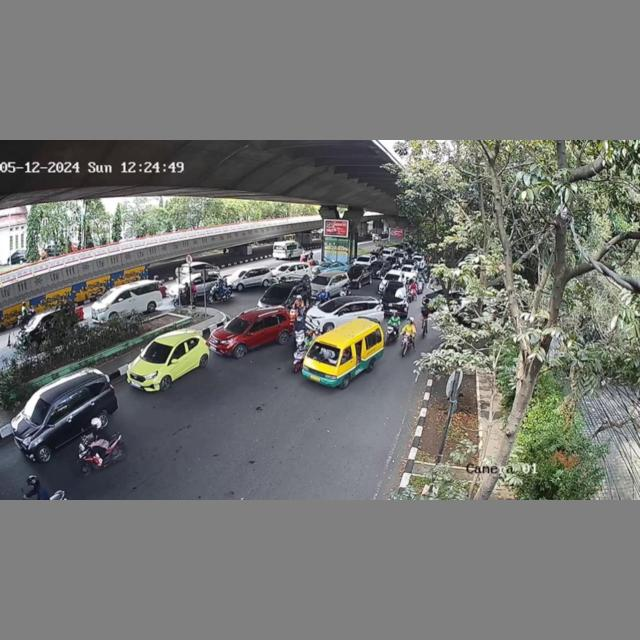windshield: (309, 340, 343, 371), (141, 341, 173, 364), (226, 316, 252, 335)
